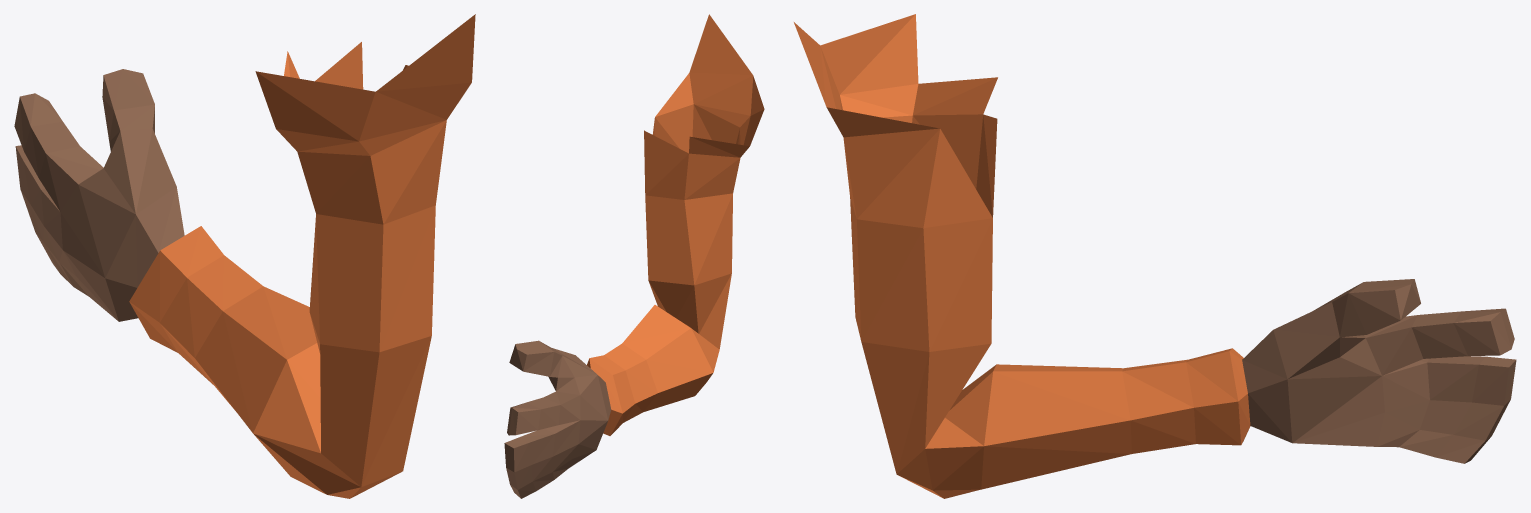
The model's file is Son_01_ArmL_96_04_C.obj.
3 views of the same model, side by side, from view 1: azimuth 30°, elevation 25°; view 2: azimuth 150°, elevation 25°; view 3: azimuth 270°, elevation 25° (orthographic). The views are drawn at different scales.
Visible parts, largest first — view 1: Son_01_ArmL_96_04_C; view 2: Son_01_ArmL_96_04_C; view 3: Son_01_ArmL_96_04_C.
Part boxes in pixels (x1,y1,x2,y2): Son_01_ArmL_96_04_C: [14, 14, 475, 498]; Son_01_ArmL_96_04_C: [504, 14, 764, 498]; Son_01_ArmL_96_04_C: [794, 14, 1516, 498].
Size of the model in its own units: 0.1573 by 0.469 by 0.6171.
1 material, 1 textured.
